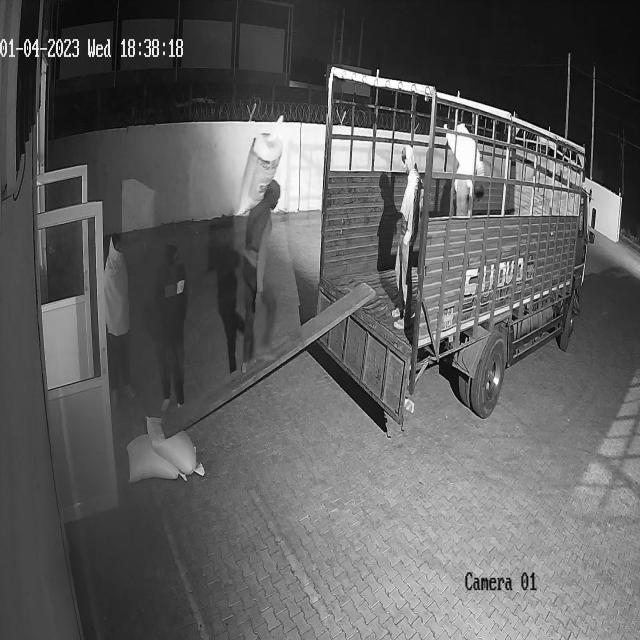sack: (234, 130, 284, 217), (145, 414, 205, 476), (126, 435, 187, 481), (443, 121, 486, 175)
